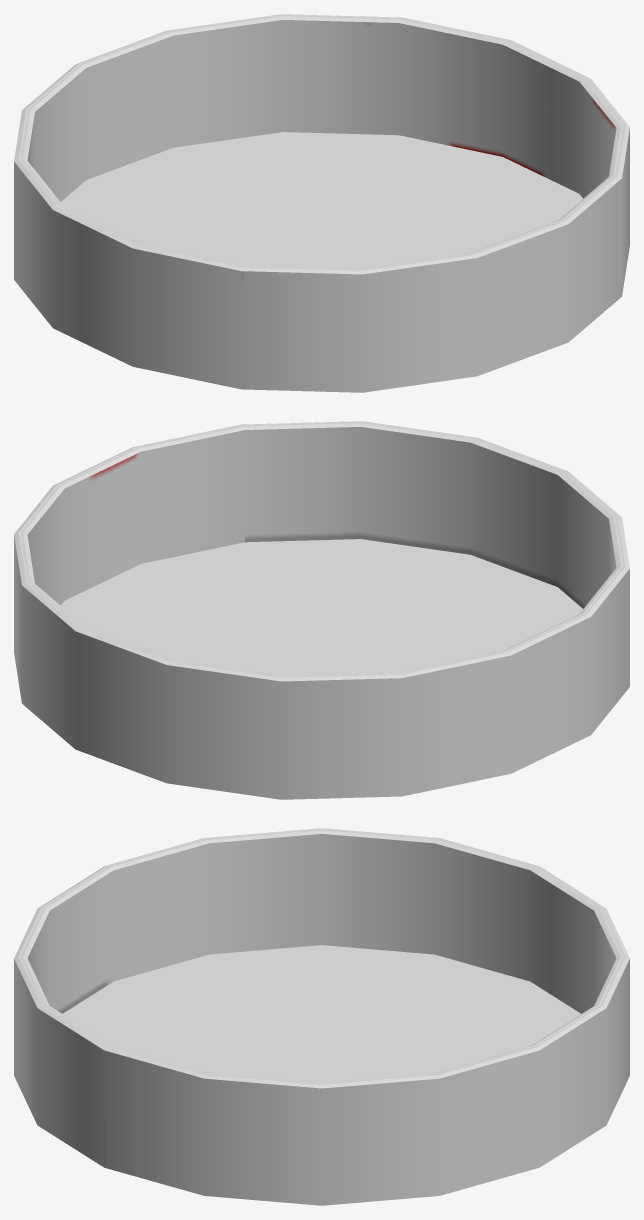
File: Lab_Tools_Small_Plate.fbx
The picture shows the model from 3 angles, top to bottom: view 1: azimuth 30°, elevation 25°; view 2: azimuth 150°, elevation 25°; view 3: azimuth 270°, elevation 25°; orthographic projection.
Parts seen in each view (by area): view 1: Small_Plate; view 2: Small_Plate; view 3: Small_Plate.
Part boxes in pixels (box(x1,y1,x2,y2)): Small_Plate: box(14, 14, 629, 392); Small_Plate: box(14, 421, 629, 799); Small_Plate: box(14, 828, 629, 1205).
Size of the model in its own units: 0.1 by 0.0246 by 0.1.
